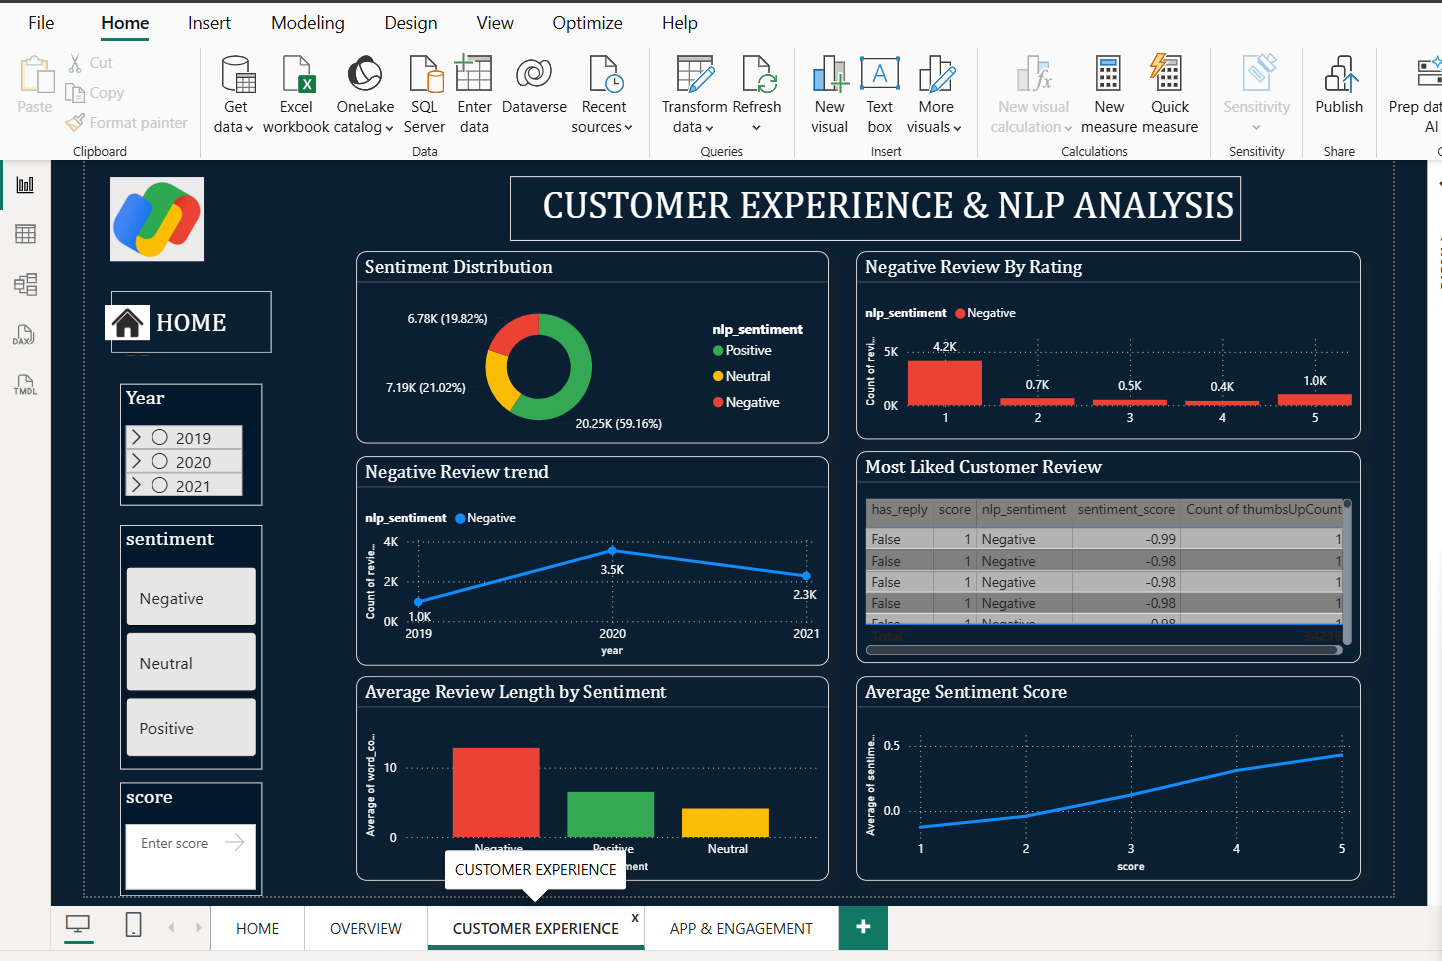

This screenshot's page, from the dashboard's own definition file:
{"tool":"powerbi","page":{"name":"CUSTOMER EXPERIENCE","canvas":[1280,720],"ordinal":2},"visuals":[{"type":"donutChart","title":"Sentiment Distribution","fields":{"Category":["GooglePayIndia_NLP.nlp_sentiment"],"Y":["CountNonNull(GooglePayIndia_NLP.reviewId)"]},"box":[264.8,89.2,462.4,188],"z":0},{"type":"clusteredColumnChart","title":"Negative Review By Rating","fields":{"Y":["Count(GooglePayIndia_NLP.reviewId)"],"Category":["GooglePayIndia_NLP.score"],"Series":["GooglePayIndia_NLP.nlp_sentiment"]},"box":[754.7,89.2,494,183.9],"z":1000},{"type":"lineChart","title":"Average Sentiment Score","fields":{"Y":["Avg(GooglePayIndia_NLP.sentiment_score)"],"Category":["GooglePayIndia_NLP.score"]},"box":[754.7,505,494,200.3],"z":2000},{"type":"clusteredColumnChart","title":"Average Review Length by Sentiment","fields":{"Category":["GooglePayIndia_NLP.nlp_sentiment"],"Y":["Avg(GooglePayIndia_NLP.word_count)"]},"box":[264.8,505,462.4,200.3],"z":3000},{"type":"lineChart","title":"Negative Review trend","fields":{"Y":["CountNonNull(GooglePayIndia_NLP.reviewId)"],"Category":["GooglePayIndia_NLP.year"],"Series":["GooglePayIndia_NLP.nlp_sentiment"]},"box":[264.8,289.5,462.4,204.5],"z":4000},{"type":"tableEx","title":"Most Liked Customer Review","fields":{"Values":["GooglePayIndia_NLP.has_reply","GooglePayIndia_NLP.score","GooglePayIndia_NLP.nlp_sentiment","GooglePayIndia_NLP.sentiment_score","CountNonNull(GooglePayIndia_NLP.thumbsUpCount)"]},"box":[754.7,285.4,494,207.2],"z":5000},{"type":"image","box":[24.5,15.9,91.7,84.4],"z":6000},{"type":"textbox","box":[415.8,16.5,714.9,63.1],"z":7000},{"type":"image","box":[17.6,159.7,69,33.8],"z":8000},{"type":"listSlicer","fields":{"Values":["GooglePayReviews.year_month.Variation.Date Hierarchy.Year","GooglePayReviews.year_month.Variation.Date Hierarchy.Quarter","GooglePayReviews.year_month.Variation.Date Hierarchy.Month","GooglePayReviews.year_month.Variation.Date Hierarchy.Day"]},"box":[33.8,219.2,139.4,119.1],"z":9000},{"type":"advancedSlicerVisual","fields":{"Values":["GooglePayReviews.sentiment"]},"box":[33.8,357.3,139.4,239.5],"z":10000},{"type":"textSlicer","fields":{"Values":["GooglePayReviews.score"]},"box":[33.8,609,139.4,111],"z":11000},{"type":"shape","box":[26.1,129,156.4,60.4],"z":12000},{"type":"image","box":[19.2,141.3,43.9,34.3],"z":13000}]}

Visuals, with their boxes on the page's 1280x720 design canvas (x1, y1, x2, y2). These are canvas units, not pixel positions in the 1442x961 screenshot, which may show the page scaled, cropped or inside an application window:
"Sentiment Distribution" donutChart: 265, 89, 727, 277
"Negative Review By Rating" clusteredColumnChart: 755, 89, 1249, 273
"Average Sentiment Score" lineChart: 755, 505, 1249, 705
"Average Review Length by Sentiment" clusteredColumnChart: 265, 505, 727, 705
"Negative Review trend" lineChart: 265, 290, 727, 494
"Most Liked Customer Review" tableEx: 755, 285, 1249, 493
image: 24, 16, 116, 100
textbox: 416, 16, 1131, 80
image: 18, 160, 87, 194
listSlicer - GooglePayReviews.year_month.Variation.Date Hierarchy.Year x GooglePayReviews.year_month.Variation.Date Hierarchy.Quarter: 34, 219, 173, 338
advancedSlicerVisual - GooglePayReviews.sentiment: 34, 357, 173, 597
textSlicer - GooglePayReviews.score: 34, 609, 173, 720
shape: 26, 129, 182, 189
image: 19, 141, 63, 176
